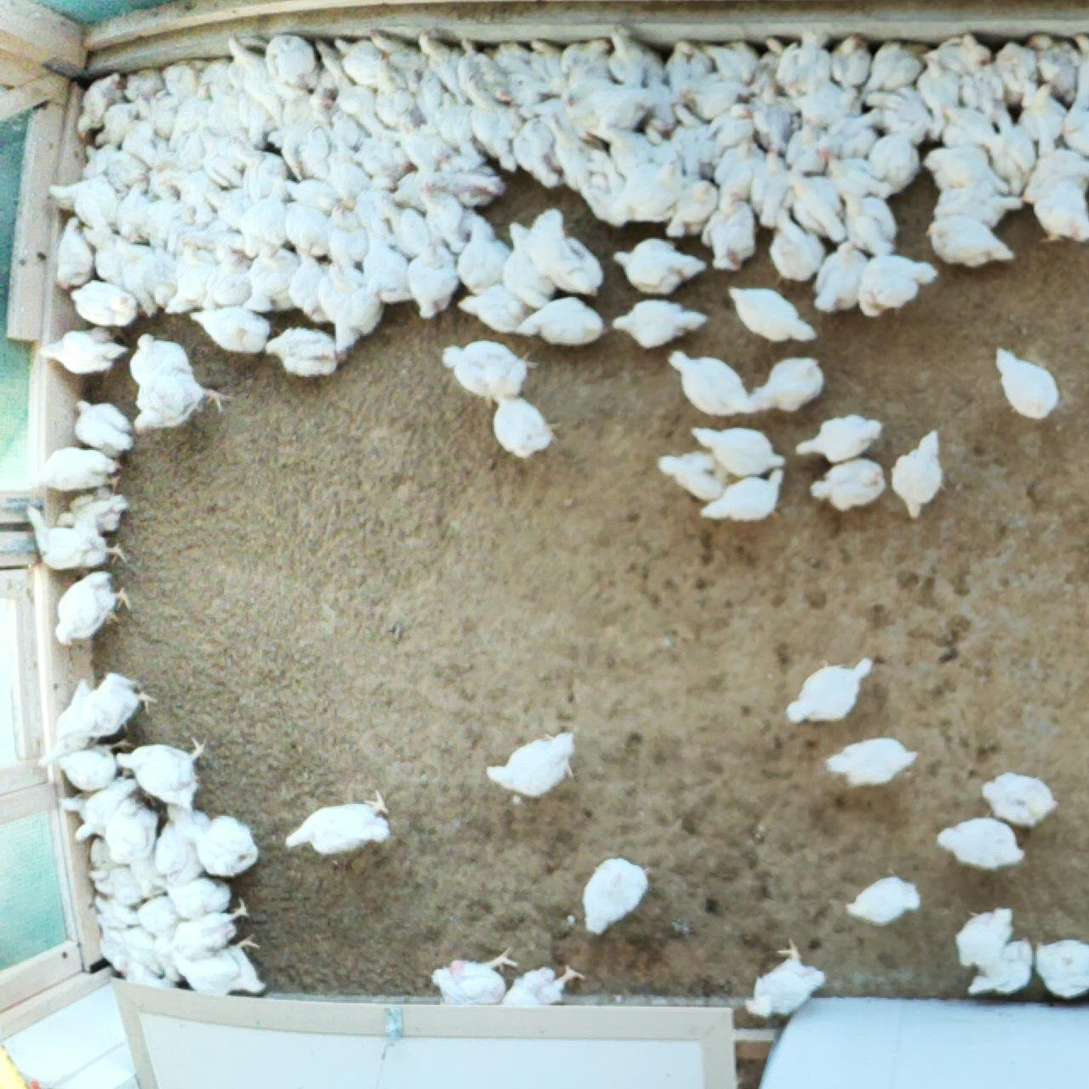chicken: (77, 219, 153, 316), (285, 791, 391, 857), (316, 261, 382, 363), (23, 503, 126, 568), (117, 736, 208, 809), (66, 671, 158, 743), (530, 207, 602, 295), (36, 681, 105, 771), (745, 941, 825, 1017), (784, 659, 873, 725), (487, 732, 576, 797), (174, 932, 263, 997), (668, 349, 755, 413), (442, 341, 539, 398), (55, 573, 131, 645), (429, 947, 517, 1009), (582, 854, 649, 933), (728, 284, 818, 342), (614, 238, 706, 294), (134, 376, 229, 430), (589, 124, 674, 184), (700, 465, 788, 522), (868, 83, 944, 149), (166, 899, 248, 960), (858, 255, 940, 316), (891, 426, 943, 522), (699, 190, 763, 267), (564, 80, 655, 134), (151, 136, 198, 240), (759, 210, 828, 280), (995, 347, 1062, 418), (425, 152, 508, 208), (664, 104, 722, 184), (283, 96, 335, 185), (927, 215, 1016, 266), (936, 818, 1024, 869), (923, 146, 1012, 196), (457, 215, 515, 291), (223, 31, 278, 111), (834, 738, 915, 790), (333, 35, 402, 96), (520, 297, 607, 345), (548, 109, 600, 189), (810, 459, 887, 513), (773, 31, 833, 100), (35, 327, 126, 372), (751, 357, 824, 413), (129, 331, 197, 391), (614, 300, 699, 348), (505, 218, 554, 300), (751, 62, 798, 147), (825, 148, 885, 214), (504, 961, 588, 1008), (982, 773, 1057, 825), (151, 810, 202, 886), (189, 305, 268, 354), (813, 239, 868, 309), (1025, 26, 1075, 103), (78, 781, 137, 846), (492, 402, 558, 460), (935, 187, 1024, 230), (988, 99, 1037, 177), (266, 325, 336, 379), (789, 175, 847, 240), (465, 105, 522, 171), (848, 878, 926, 926), (864, 35, 924, 97), (83, 142, 148, 199), (514, 114, 563, 189), (459, 287, 537, 334), (198, 818, 259, 878), (1030, 183, 1089, 245), (966, 938, 1031, 994), (843, 184, 899, 249), (601, 179, 670, 231), (417, 27, 466, 100), (417, 184, 471, 249), (607, 25, 669, 81), (375, 194, 431, 256), (795, 82, 863, 133), (408, 243, 452, 321), (373, 50, 417, 128), (393, 116, 455, 170), (48, 174, 113, 225), (323, 200, 369, 272), (956, 907, 1012, 966), (436, 91, 482, 162), (944, 103, 1001, 160), (316, 75, 375, 130), (54, 488, 125, 533), (75, 398, 131, 455), (288, 250, 332, 322), (664, 40, 715, 102), (1036, 938, 1089, 997), (43, 446, 119, 487), (235, 143, 283, 207), (358, 128, 409, 188), (663, 182, 716, 239), (451, 35, 494, 105), (90, 840, 141, 899), (71, 280, 135, 327), (204, 185, 269, 231), (752, 145, 788, 227), (869, 134, 917, 195), (204, 243, 248, 309), (202, 125, 248, 188), (699, 37, 759, 85), (283, 203, 330, 263), (166, 245, 208, 312), (715, 140, 760, 202), (265, 31, 315, 86), (361, 249, 411, 304), (916, 68, 953, 142), (305, 30, 353, 87), (709, 100, 753, 162), (926, 36, 992, 77), (1025, 83, 1068, 145), (1068, 29, 1089, 154), (368, 27, 425, 73), (242, 202, 286, 261), (163, 878, 226, 919), (62, 747, 115, 795), (55, 214, 90, 286), (322, 154, 367, 210), (483, 40, 541, 83), (828, 35, 871, 92), (558, 42, 615, 85), (247, 262, 291, 316), (754, 33, 789, 100), (77, 82, 120, 136), (786, 123, 829, 176), (96, 939, 159, 975), (824, 110, 876, 153), (117, 177, 154, 237), (964, 63, 1004, 116), (995, 40, 1030, 100), (97, 897, 144, 937), (97, 102, 138, 147), (134, 96, 178, 137), (248, 86, 277, 148), (529, 39, 564, 90), (138, 895, 175, 941), (287, 179, 338, 210), (120, 70, 162, 104), (198, 57, 231, 97), (165, 64, 196, 98), (61, 790, 90, 825), (121, 972, 180, 987)
